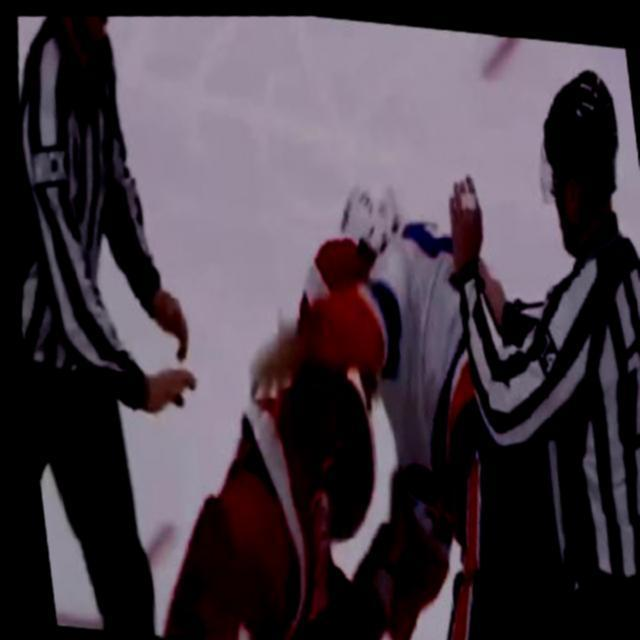fight: (111, 133, 604, 640)
